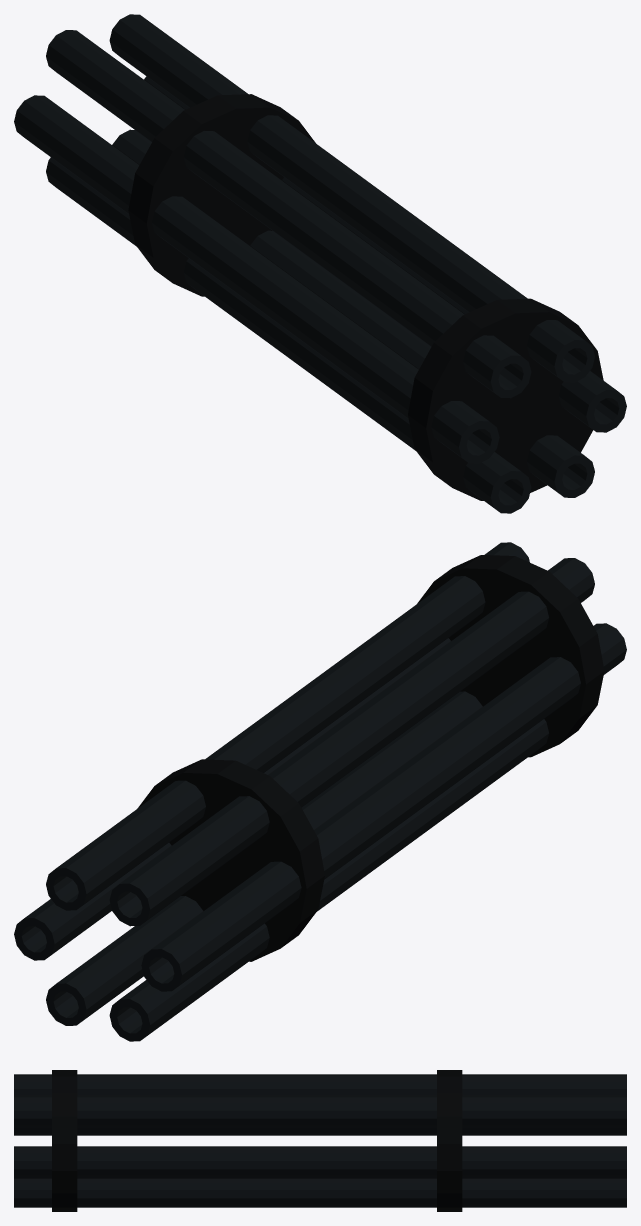
The model's file is Cannon20__Rotor.obj.
3 renders of one model, top to bottom at view 1: azimuth 30°, elevation 25°; view 2: azimuth 150°, elevation 25°; view 3: azimuth 270°, elevation 25°, orthographic. The views are drawn at different scales.
Parts seen in each view (by area): view 1: Barrel_03, Barrel_04, Barrel_02, Rotor_barrel_clamp, Rotor_barrel_clamp.001, Barrel_05, Barrel_06, Barrel_01; view 2: Barrel_03, Barrel_04, Barrel_02, Barrel_06, Rotor_barrel_clamp, Rotor_barrel_clamp.001, Barrel_05, Barrel_01; view 3: Barrel_01, Barrel_02, Barrel_06, Barrel_03, Barrel_04, Rotor_barrel_clamp, Rotor_barrel_clamp.001.
Boxes of the visible parts, left/top/right/bottom form: Barrel_03: left=46, top=30, right=531, bottom=398; Barrel_04: left=14, top=95, right=499, bottom=463; Barrel_02: left=109, top=14, right=594, bottom=382; Rotor_barrel_clamp: left=408, top=298, right=603, bottom=500; Rotor_barrel_clamp.001: left=128, top=94, right=315, bottom=296; Barrel_05: left=46, top=157, right=531, bottom=513; Barrel_06: left=112, top=129, right=594, bottom=497; Barrel_01: left=144, top=76, right=626, bottom=432; Barrel_03: left=109, top=558, right=594, bottom=926; Barrel_04: left=141, top=623, right=626, bottom=991; Barrel_02: left=46, top=542, right=529, bottom=910; Barrel_06: left=46, top=691, right=482, bottom=1025; Rotor_barrel_clamp: left=417, top=555, right=604, bottom=757; Rotor_barrel_clamp.001: left=137, top=759, right=324, bottom=961; Barrel_05: left=109, top=719, right=548, bottom=1041; Barrel_01: left=14, top=638, right=450, bottom=960; Barrel_01: left=14, top=1146, right=626, bottom=1178; Barrel_02: left=14, top=1095, right=626, bottom=1127; Barrel_06: left=14, top=1178, right=626, bottom=1207; Barrel_03: left=14, top=1074, right=626, bottom=1095; Barrel_04: left=14, top=1128, right=626, bottom=1135; Rotor_barrel_clamp: left=52, top=1070, right=77, bottom=1211; Rotor_barrel_clamp.001: left=437, top=1070, right=462, bottom=1211.
Size of the model in its own units: 0.28 by 0.28 by 1.21.
